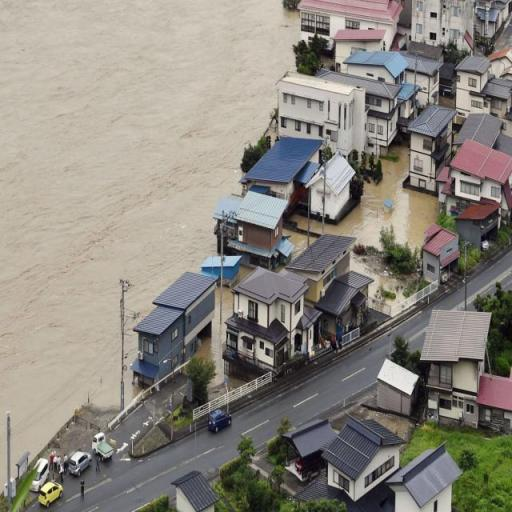flood: (0, 0, 298, 488), (337, 155, 437, 246), (211, 281, 234, 387), (351, 253, 404, 297), (233, 266, 254, 285)
house: (269, 62, 404, 156), (223, 260, 317, 378), (130, 270, 224, 380), (420, 306, 500, 430), (326, 414, 408, 500), (448, 110, 512, 216), (242, 135, 324, 214), (453, 111, 512, 212), (226, 188, 292, 265), (390, 445, 464, 512), (297, 148, 360, 224), (303, 0, 398, 48), (296, 232, 357, 302), (409, 104, 455, 196), (381, 358, 421, 420), (419, 220, 459, 282), (473, 372, 512, 434), (458, 199, 500, 253), (480, 364, 512, 434), (172, 468, 218, 512), (456, 52, 492, 104), (412, 0, 447, 49), (67, 450, 94, 480), (437, 60, 457, 100)
